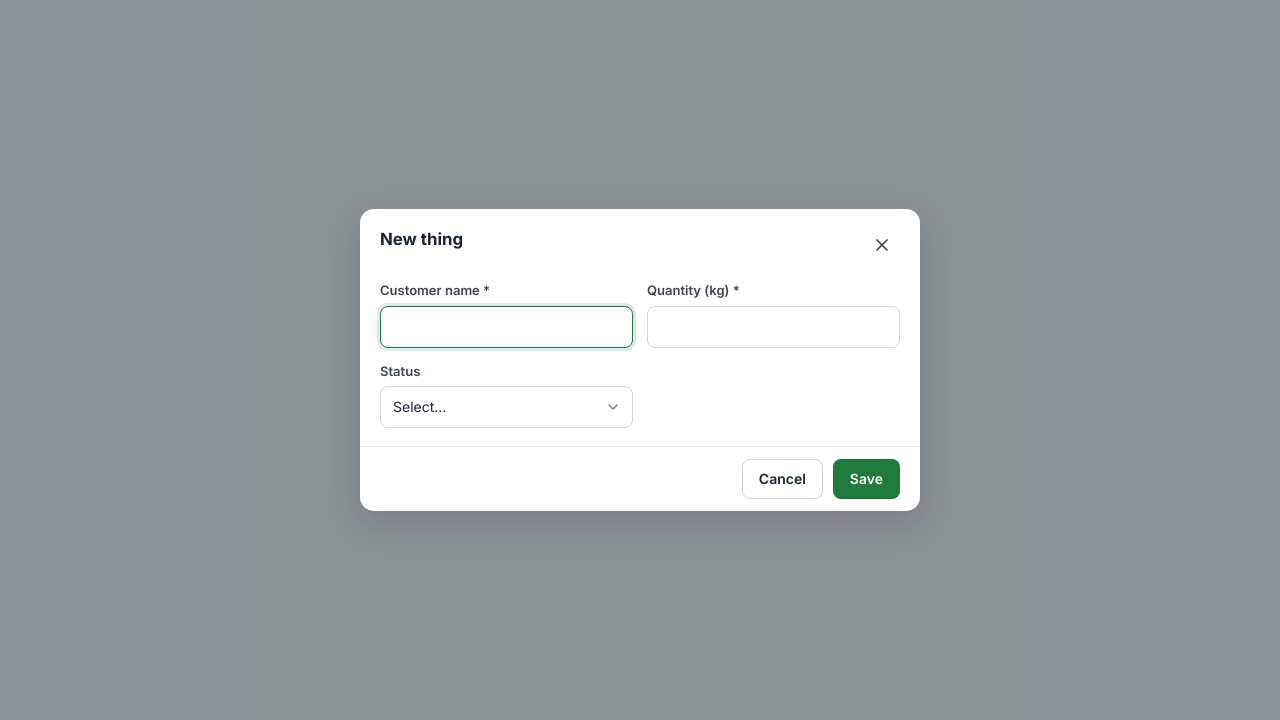
Test: FormModal › shows server field errors under the field and stays open
The image size is (1280, 720).
Type "Ravi" into the field labelled "Customer name *".
click(506, 326); type("Ravi")  # box [380, 306, 633, 348]
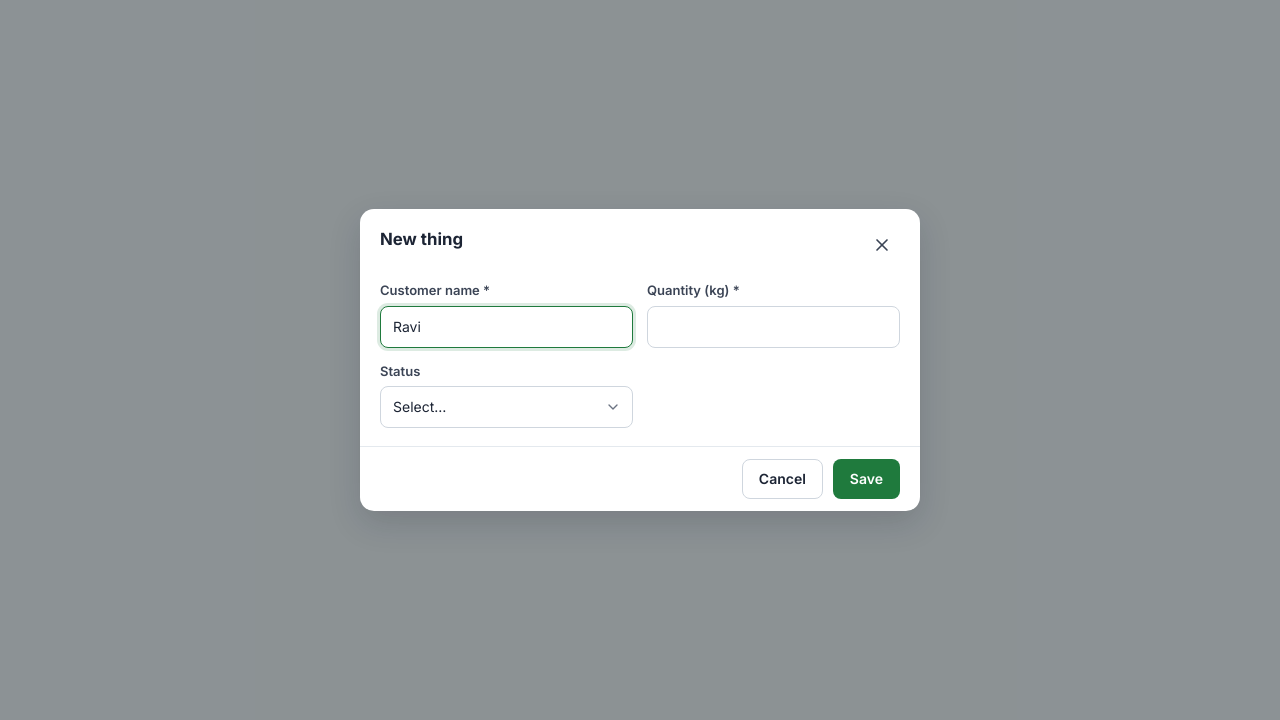
Type "99" into the number field labelled "Quantity (kg) *".
click(774, 326); type("99")  # box [647, 306, 900, 348]
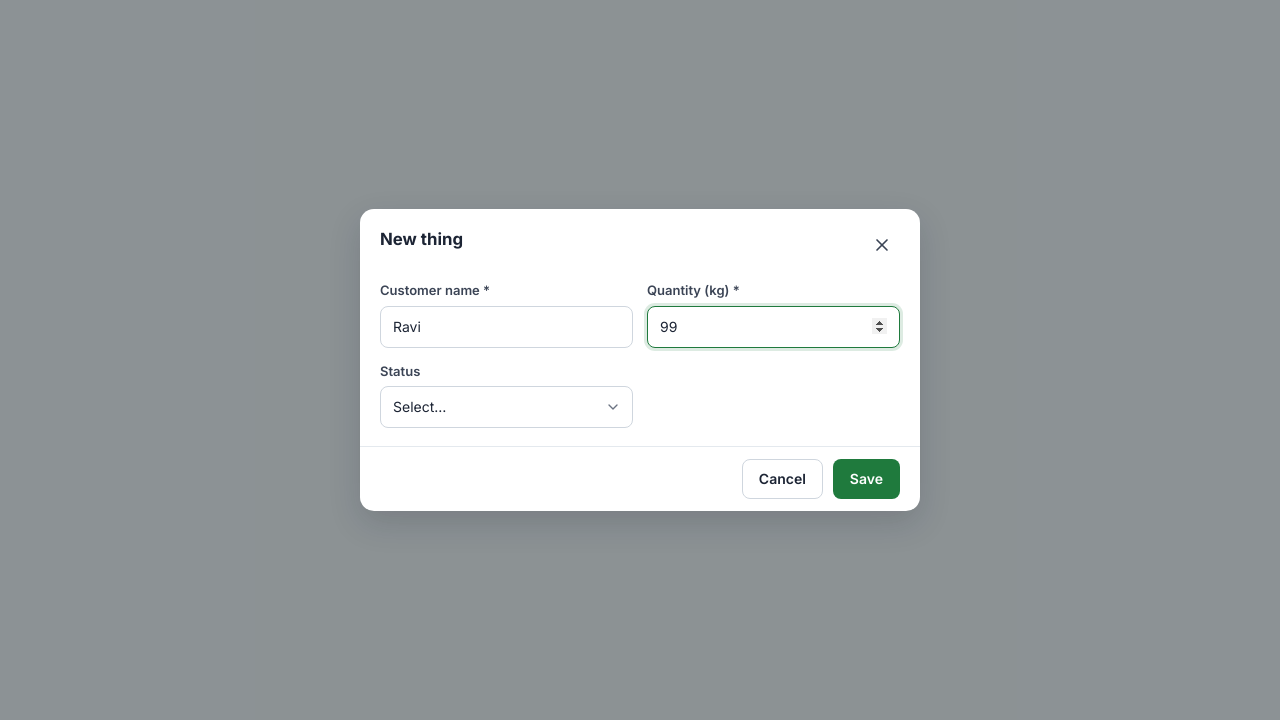
Click the button "Save".
click(866, 479)  # box [833, 459, 900, 499]
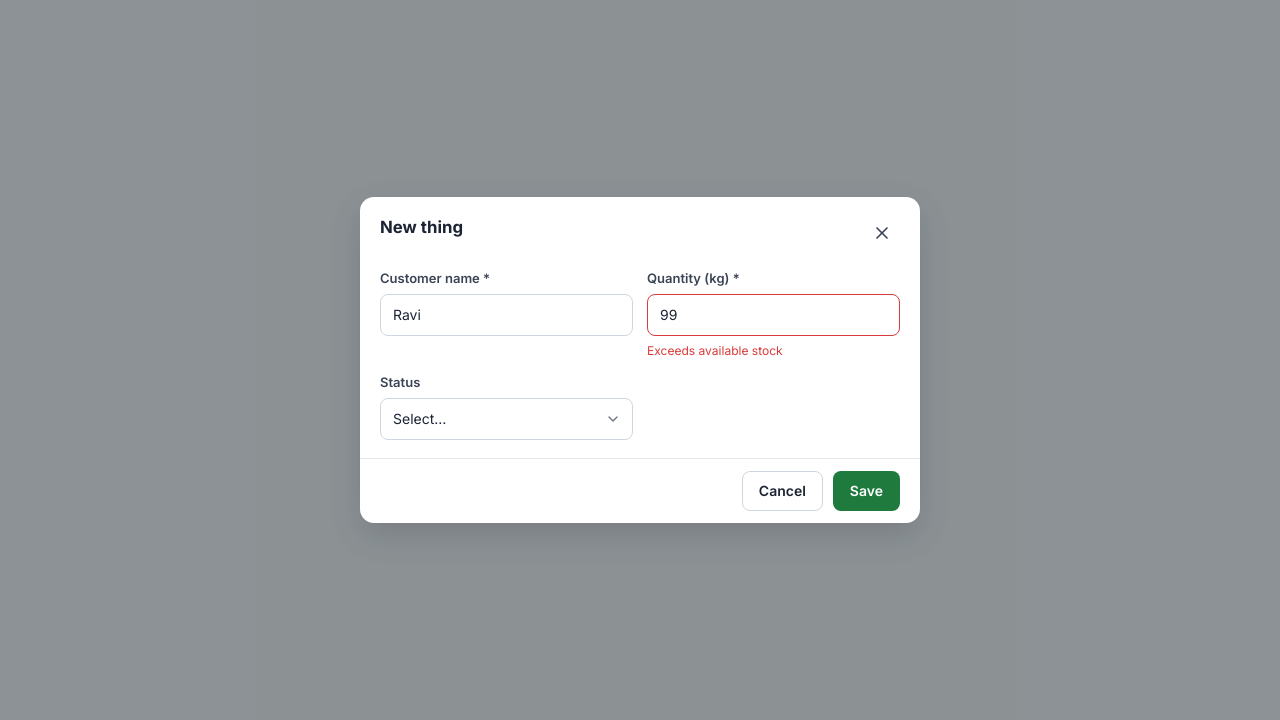
Now the text "Exceeds available stock" is shown, box [647, 343, 783, 358]
